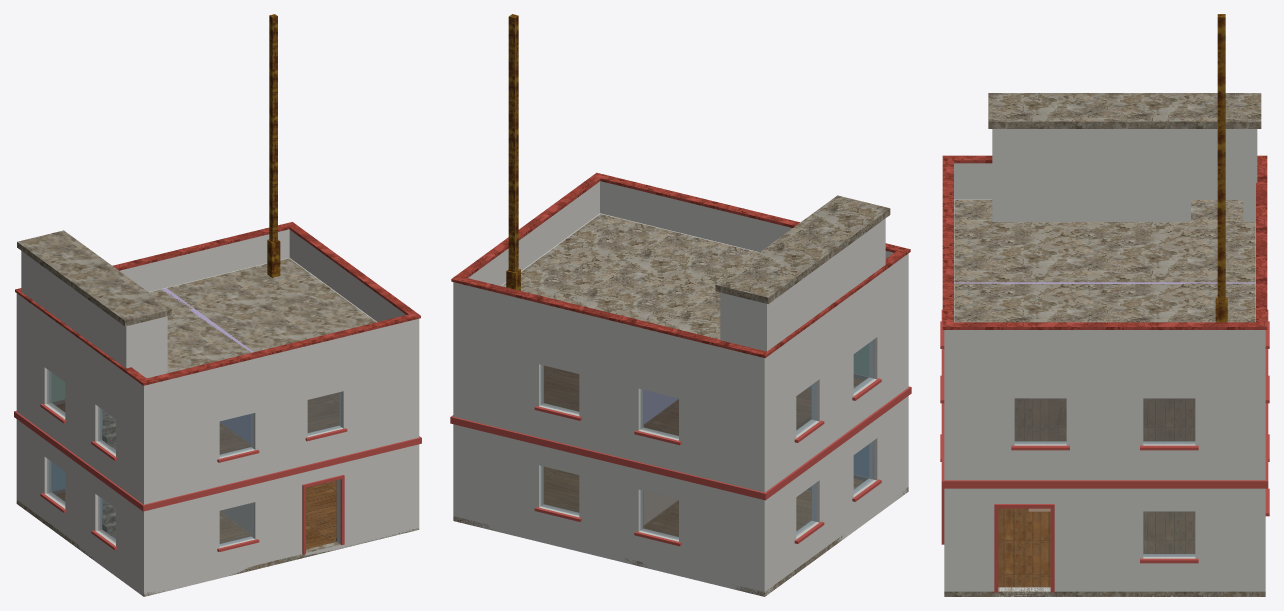
Rendered from coastguard-station.loc-v1.lod0.glb.
The picture shows the model from 3 angles, left to right: view 1: azimuth 30°, elevation 25°; view 2: azimuth 150°, elevation 25°; view 3: azimuth 270°, elevation 25°; orthographic projection. The views are drawn at different scales.
Parts seen in each view (by area): view 1: coastguard-station; view 2: coastguard-station; view 3: coastguard-station.
Part boxes in pixels (x1,y1,x2,y2): coastguard-station: (14, 14, 421, 596); coastguard-station: (450, 14, 911, 596); coastguard-station: (940, 14, 1269, 596).
Bounding box in the file's own units: 10.2 × 15.35 × 8.2.
Materials: 5 (3 with a texture image).
